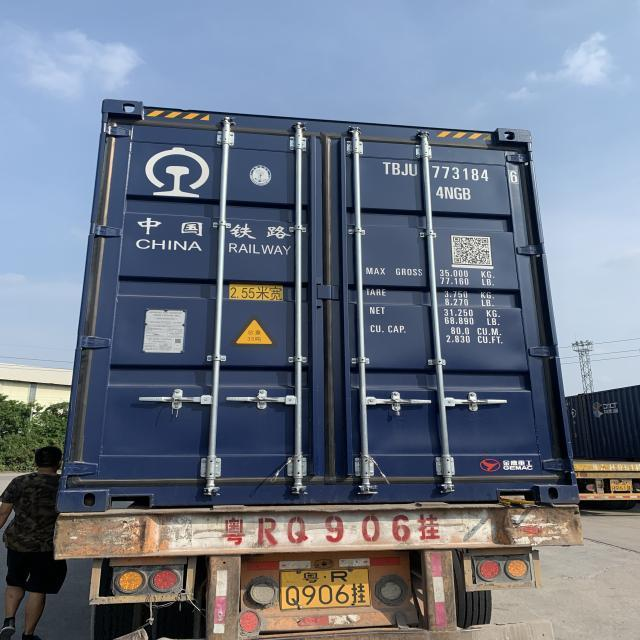ISO: (436, 186, 472, 202)
container_number: (381, 162, 529, 183)
